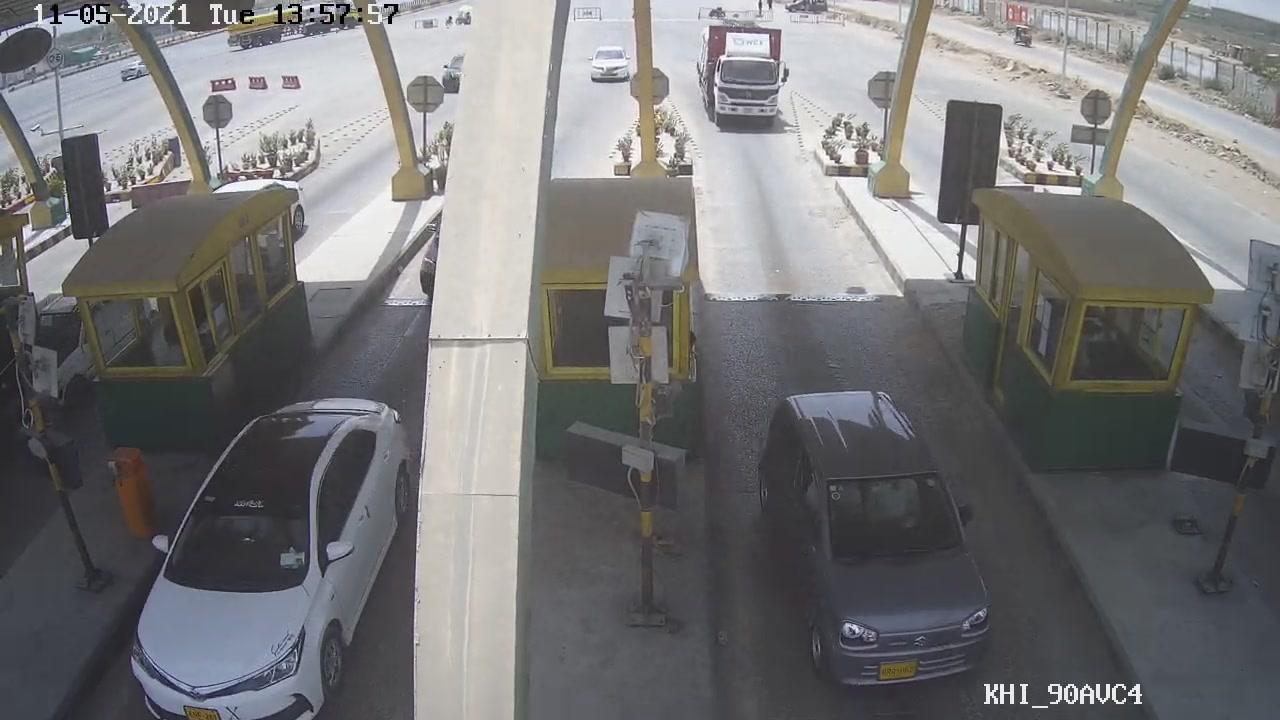F1: (759, 387, 992, 701)
